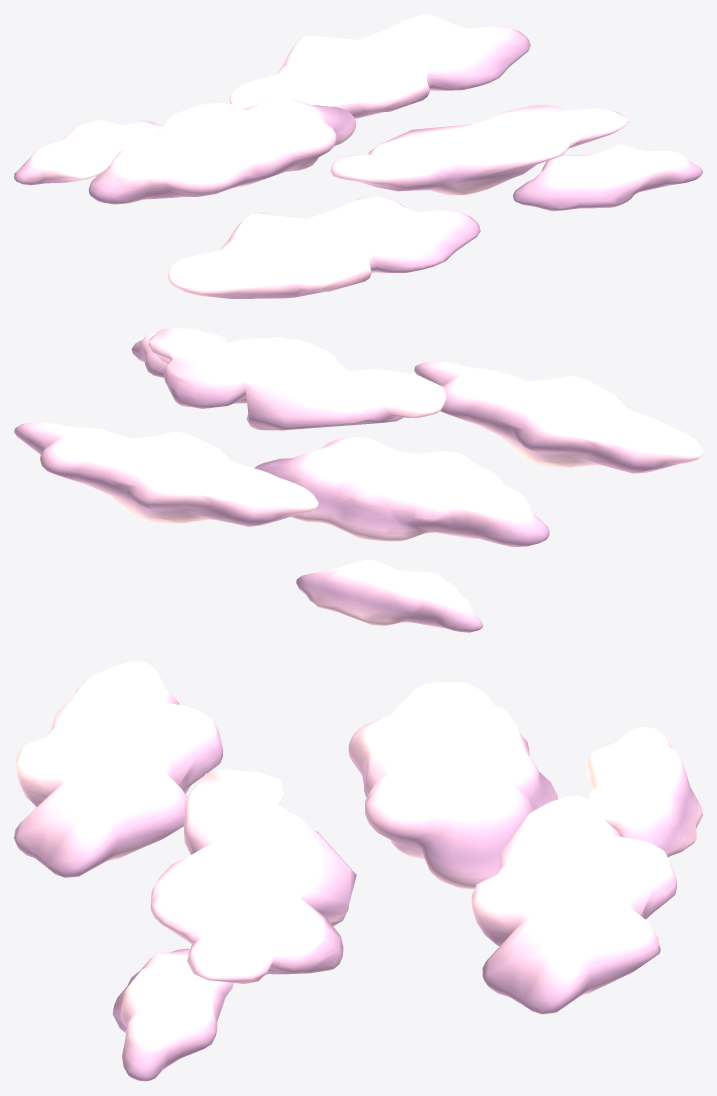
The picture shows the model from 3 angles, top to bottom: view 1: azimuth 30°, elevation 25°; view 2: azimuth 150°, elevation 25°; view 3: azimuth 270°, elevation 25°; orthographic projection. The views are drawn at different scales.
Parts seen in each view (by area): view 1: cloud_102, cloud_106, cloud_104, cloud_101, cloud_103, cloud_105; view 2: cloud_104, cloud_101, cloud_106, cloud_102, cloud_105, cloud_103; view 3: cloud_101, cloud_106, cloud_102, cloud_104, cloud_105, cloud_103.
Part boxes in pixels (<box>): cloud_102: <box>168,195,480,298</box>; cloud_106: <box>229,14,530,118</box>; cloud_104: <box>88,98,356,204</box>; cloud_101: <box>330,105,628,195</box>; cloud_103: <box>513,144,702,211</box>; cloud_105: <box>14,120,163,185</box>; cloud_104: <box>254,437,549,546</box>; cloud_101: <box>148,327,446,430</box>; cloud_106: <box>14,422,318,526</box>; cloud_102: <box>414,362,702,473</box>; cloud_105: <box>296,560,482,632</box>; cloud_103: <box>131,332,246,403</box>; cloud_101: <box>150,769,356,983</box>; cloud_106: <box>471,796,676,1014</box>; cloud_102: <box>14,661,223,877</box>; cloud_104: <box>348,681,557,889</box>; cloud_105: <box>585,727,702,857</box>; cloud_103: <box>112,948,233,1081</box>.
Size of the model in its own units: 607 by 104 by 471.
Materials: 1 (1 with a texture image).
